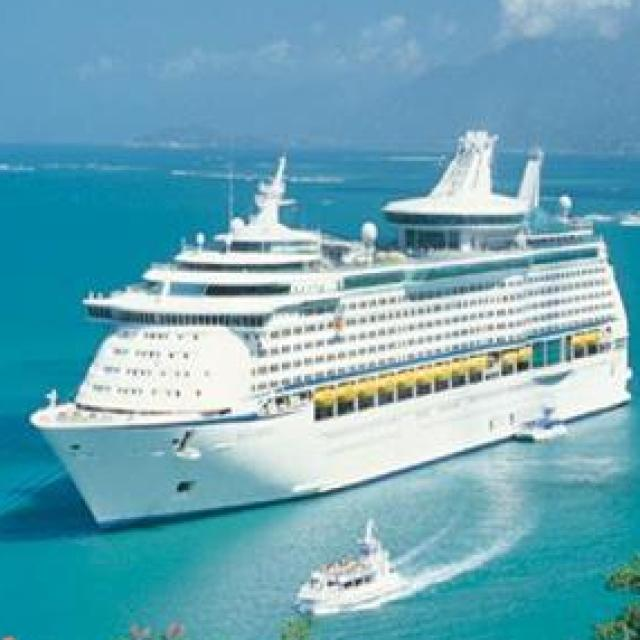passenger ship: (34, 137, 636, 522)
